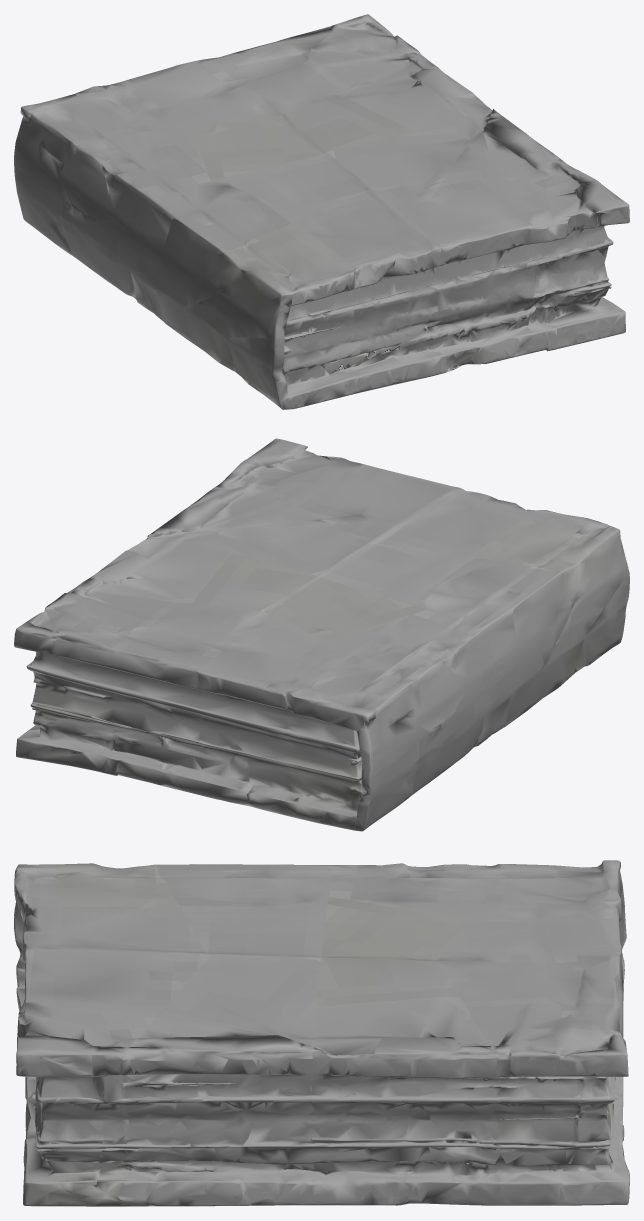
The model's file is m_dictionary.glb.
3 renders of one model, top to bottom at view 1: azimuth 30°, elevation 25°; view 2: azimuth 150°, elevation 25°; view 3: azimuth 270°, elevation 25°, orthographic. The views are drawn at different scales.
Visible parts, largest first — view 1: tripo_node_81f2399e-1822-48b9-b2f3-18c5d6706790; view 2: tripo_node_81f2399e-1822-48b9-b2f3-18c5d6706790; view 3: tripo_node_81f2399e-1822-48b9-b2f3-18c5d6706790.
Part boxes in pixels (left/top/right/bottom): tripo_node_81f2399e-1822-48b9-b2f3-18c5d6706790: left=14, top=14, right=629, bottom=409; tripo_node_81f2399e-1822-48b9-b2f3-18c5d6706790: left=14, top=438, right=629, bottom=831; tripo_node_81f2399e-1822-48b9-b2f3-18c5d6706790: left=14, top=860, right=629, bottom=1206.
Size of the model in its own units: 0.7884 by 0.2794 by 0.9997.
Materials: 1 (1 with a texture image).
